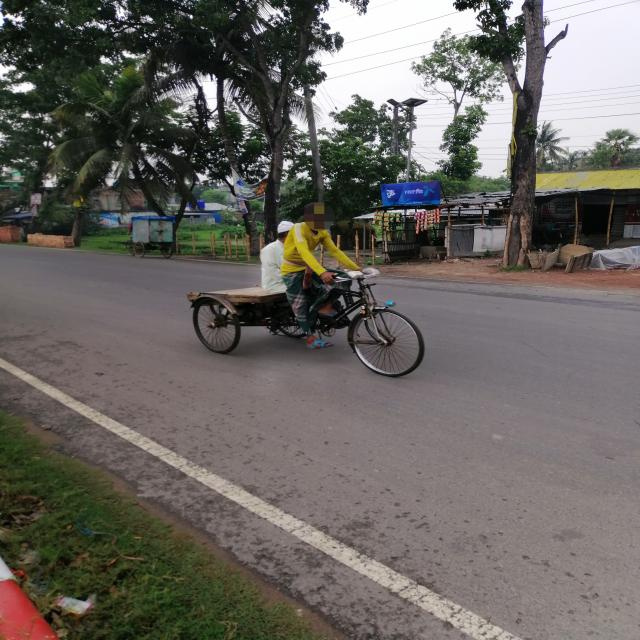Van: (167, 267, 434, 387)
